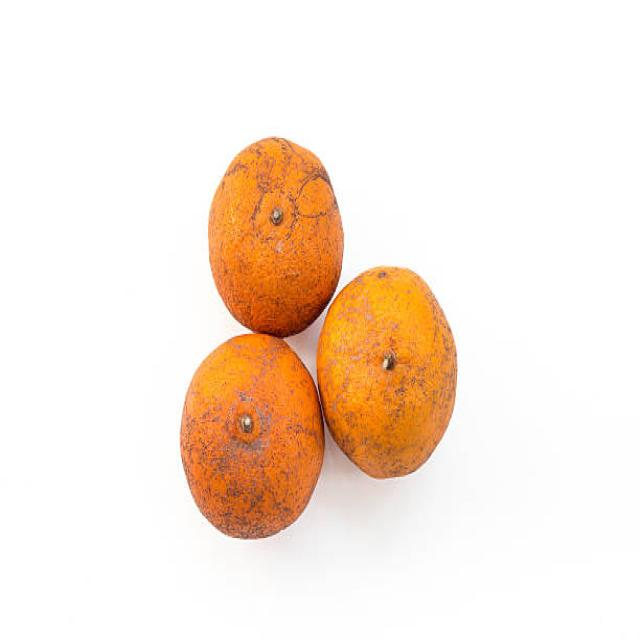overripe: (176, 324, 326, 542), (321, 262, 461, 479), (203, 127, 345, 331)
